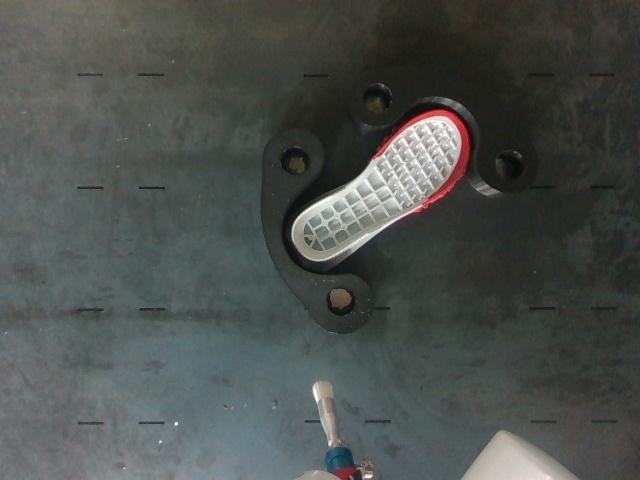shoes: (292, 111, 468, 260)
